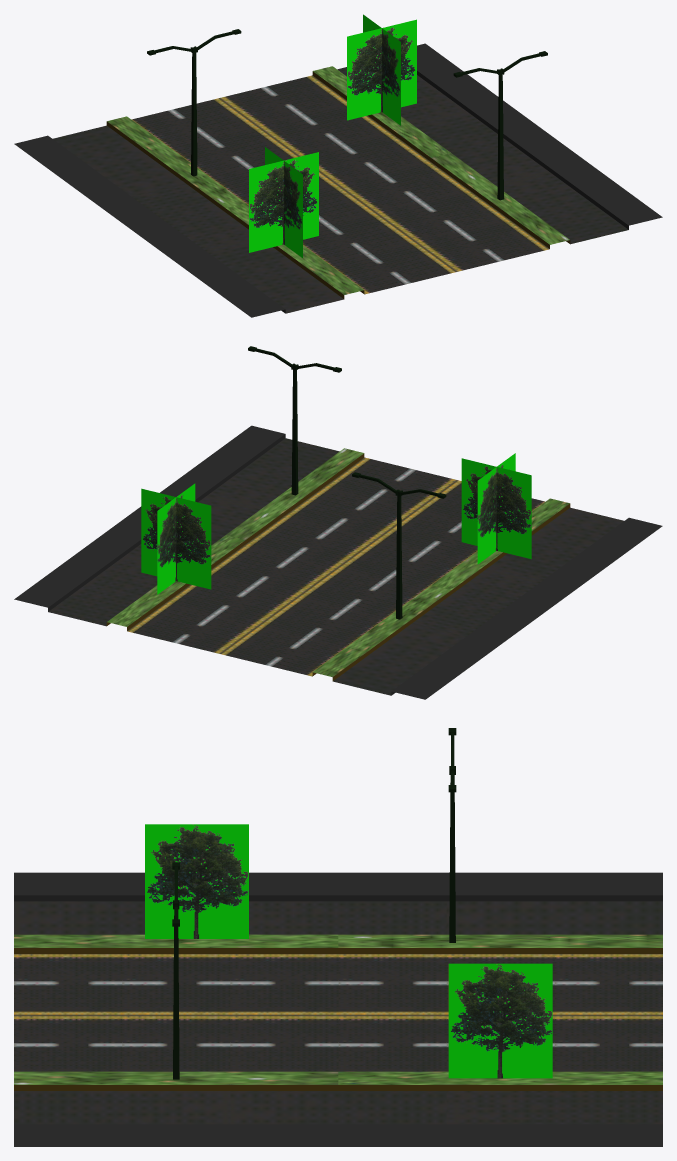
The model's file is 02_main.obj.
3 views of the same model, one above another, from view 1: azimuth 30°, elevation 25°; view 2: azimuth 150°, elevation 25°; view 3: azimuth 270°, elevation 25° (orthographic). The views are drawn at different scales.
Visible parts, largest first — view 1: 02_main_Plane.002; view 2: 02_main_Plane.002; view 3: 02_main_Plane.002.
Part boxes in pixels (left/top/right/bottom): 02_main_Plane.002: left=14, top=14, right=662, bottom=317; 02_main_Plane.002: left=14, top=346, right=662, bottom=699; 02_main_Plane.002: left=14, top=728, right=662, bottom=1146.
Bounding box in the file's own units: 1.6 × 0.5207 × 1.6.
